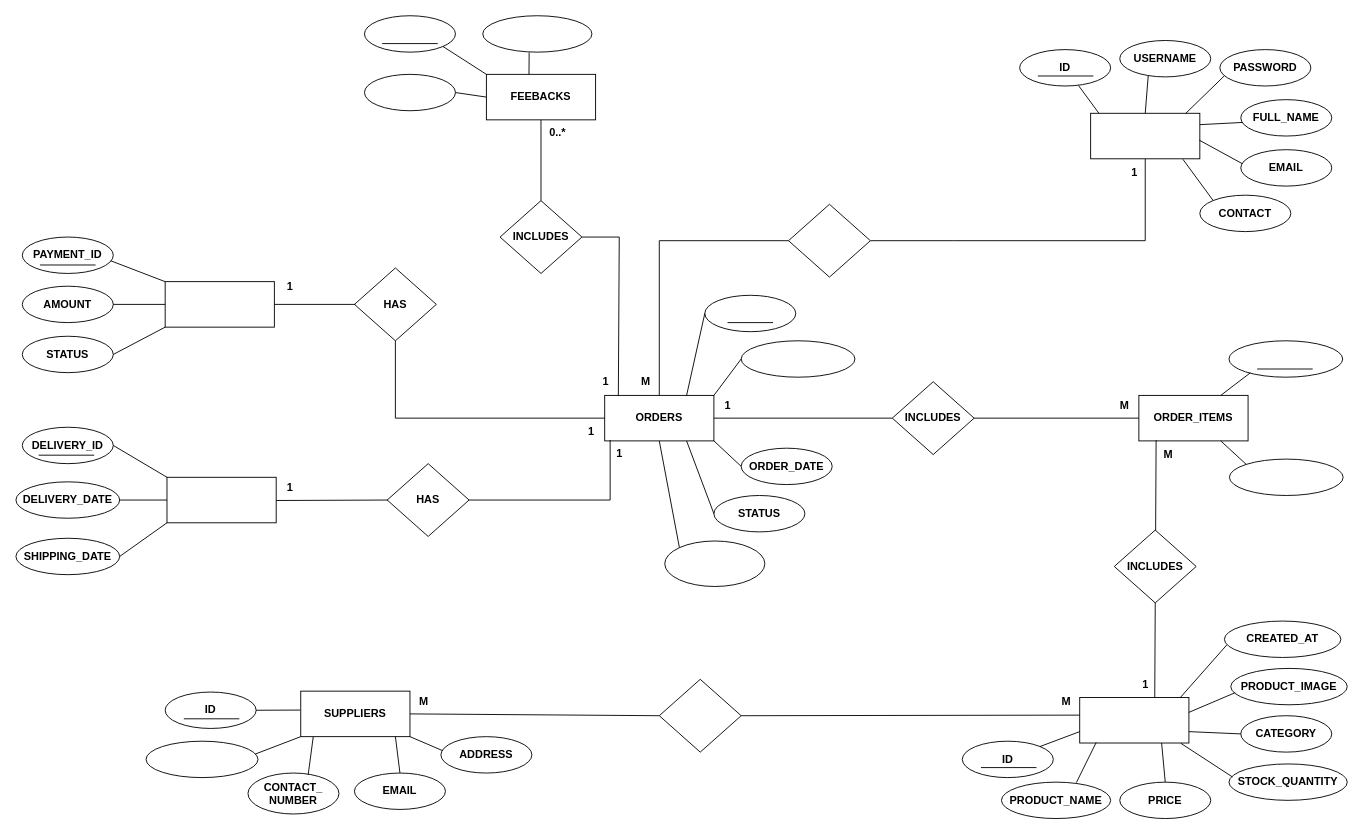
The diagram is 1363 pixels wide and 835 high, and some of its shapes have lost their labels. Each missing label, with the centre of its shape:
"CUSTOMERS" goes at (1145,135).
"DATE" goes at (409,92).
"DELIVERY" goes at (221,499).
"DELIVERY_ ADDRESS" goes at (714,563).
"FEEDBACK_ID" goes at (409,33).
"FEEDBACK_TEXT" goes at (537,33).
"ORDER_ID" goes at (750,313).
"ORDER_ITEM_ID" goes at (1285,358).
"PAYMENTS" goes at (219,304).
"PLACES" goes at (829,240).
"PRODUCTS" goes at (1134,720).
"PROVIDES" goes at (699,715).
"QUANTITY" goes at (1285,476).
"SUPPLIER_NAME" goes at (201,759).
"TOTAL_AMOUNT" goes at (797,358).
